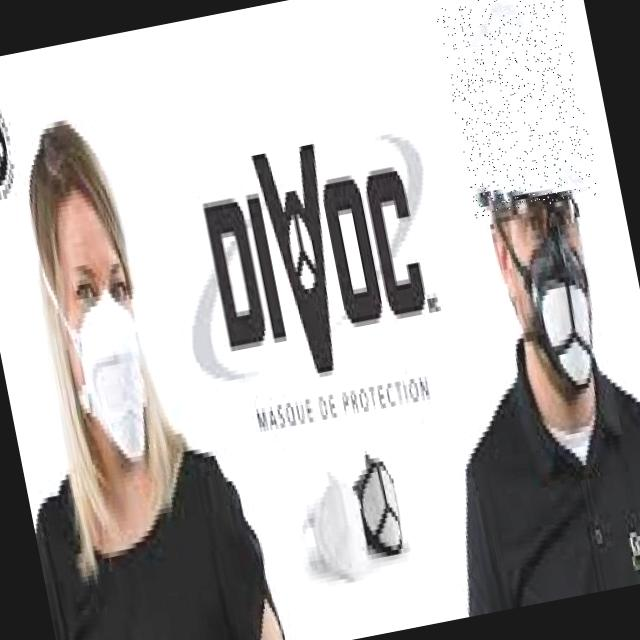helmet: (434, 0, 601, 218)
no-helmet: (0, 81, 215, 512)
no-vest: (436, 338, 640, 614), (26, 441, 292, 640)
